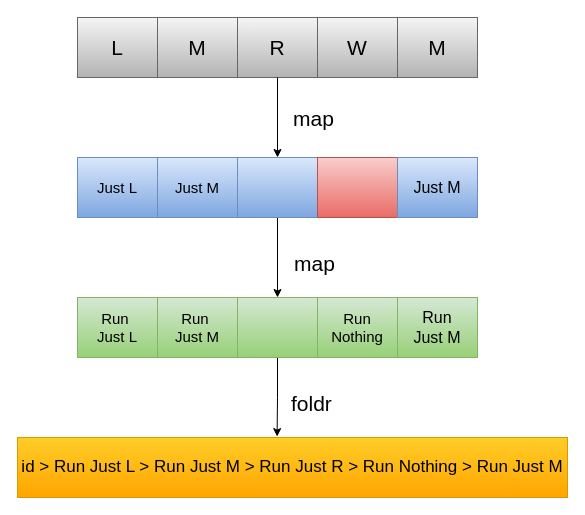
Some shapes in this 585 by 515 pixel diagram are drawn without their labels. The shapes that lost their labels are listed below. From the top down, each one's centre as x and y in pixels, then its label:
pixel 277 187: Just R
pixel 357 187: Nothing
pixel 277 327: Run Just R
